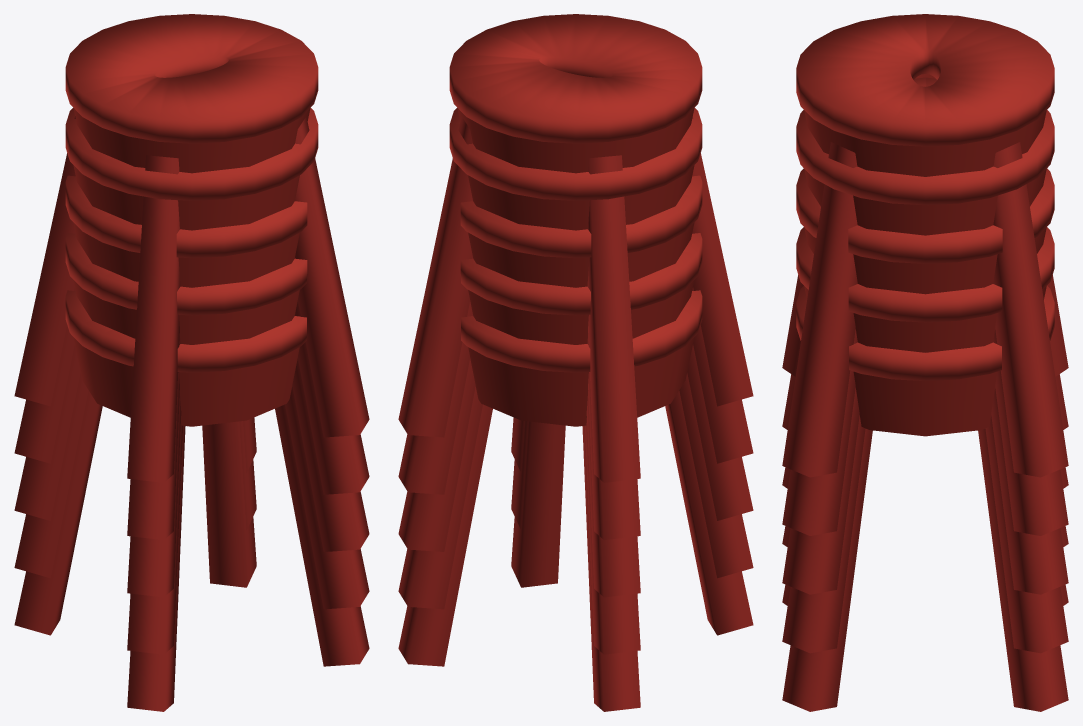
Rendered from kopitiam-plastic-stools.glb.
3 views of the same model, side by side, from view 1: azimuth 30°, elevation 25°; view 2: azimuth 150°, elevation 25°; view 3: azimuth 270°, elevation 25° (orthographic). The views are drawn at different scales.
Visible parts, largest first — view 1: stool-4, stool-0, stool-1, stool-3, stool-2; view 2: stool-4, stool-0, stool-1, stool-3, stool-2; view 3: stool-4, stool-0, stool-3, stool-2, stool-1.
Boxes of the visible parts, x1=… form: stool-4: x1=14, y1=14, x2=369, y2=482; stool-0: x1=14, y1=290, x2=369, y2=711; stool-1: x1=14, y1=233, x2=369, y2=654; stool-3: x1=14, y1=108, x2=369, y2=539; stool-2: x1=14, y1=175, x2=369, y2=597; stool-4: x1=398, y1=14, x2=753, y2=482; stool-0: x1=398, y1=290, x2=753, y2=711; stool-1: x1=398, y1=233, x2=753, y2=654; stool-3: x1=398, y1=108, x2=753, y2=539; stool-2: x1=398, y1=175, x2=753, y2=597; stool-4: x1=782, y1=14, x2=1068, y2=477; stool-0: x1=782, y1=286, x2=1068, y2=711; stool-3: x1=782, y1=77, x2=1068, y2=535; stool-2: x1=782, y1=168, x2=1068, y2=594; stool-1: x1=782, y1=227, x2=1068, y2=653.
Bounding box in the file's own units: 0.3321 × 0.7543 × 0.3321.
